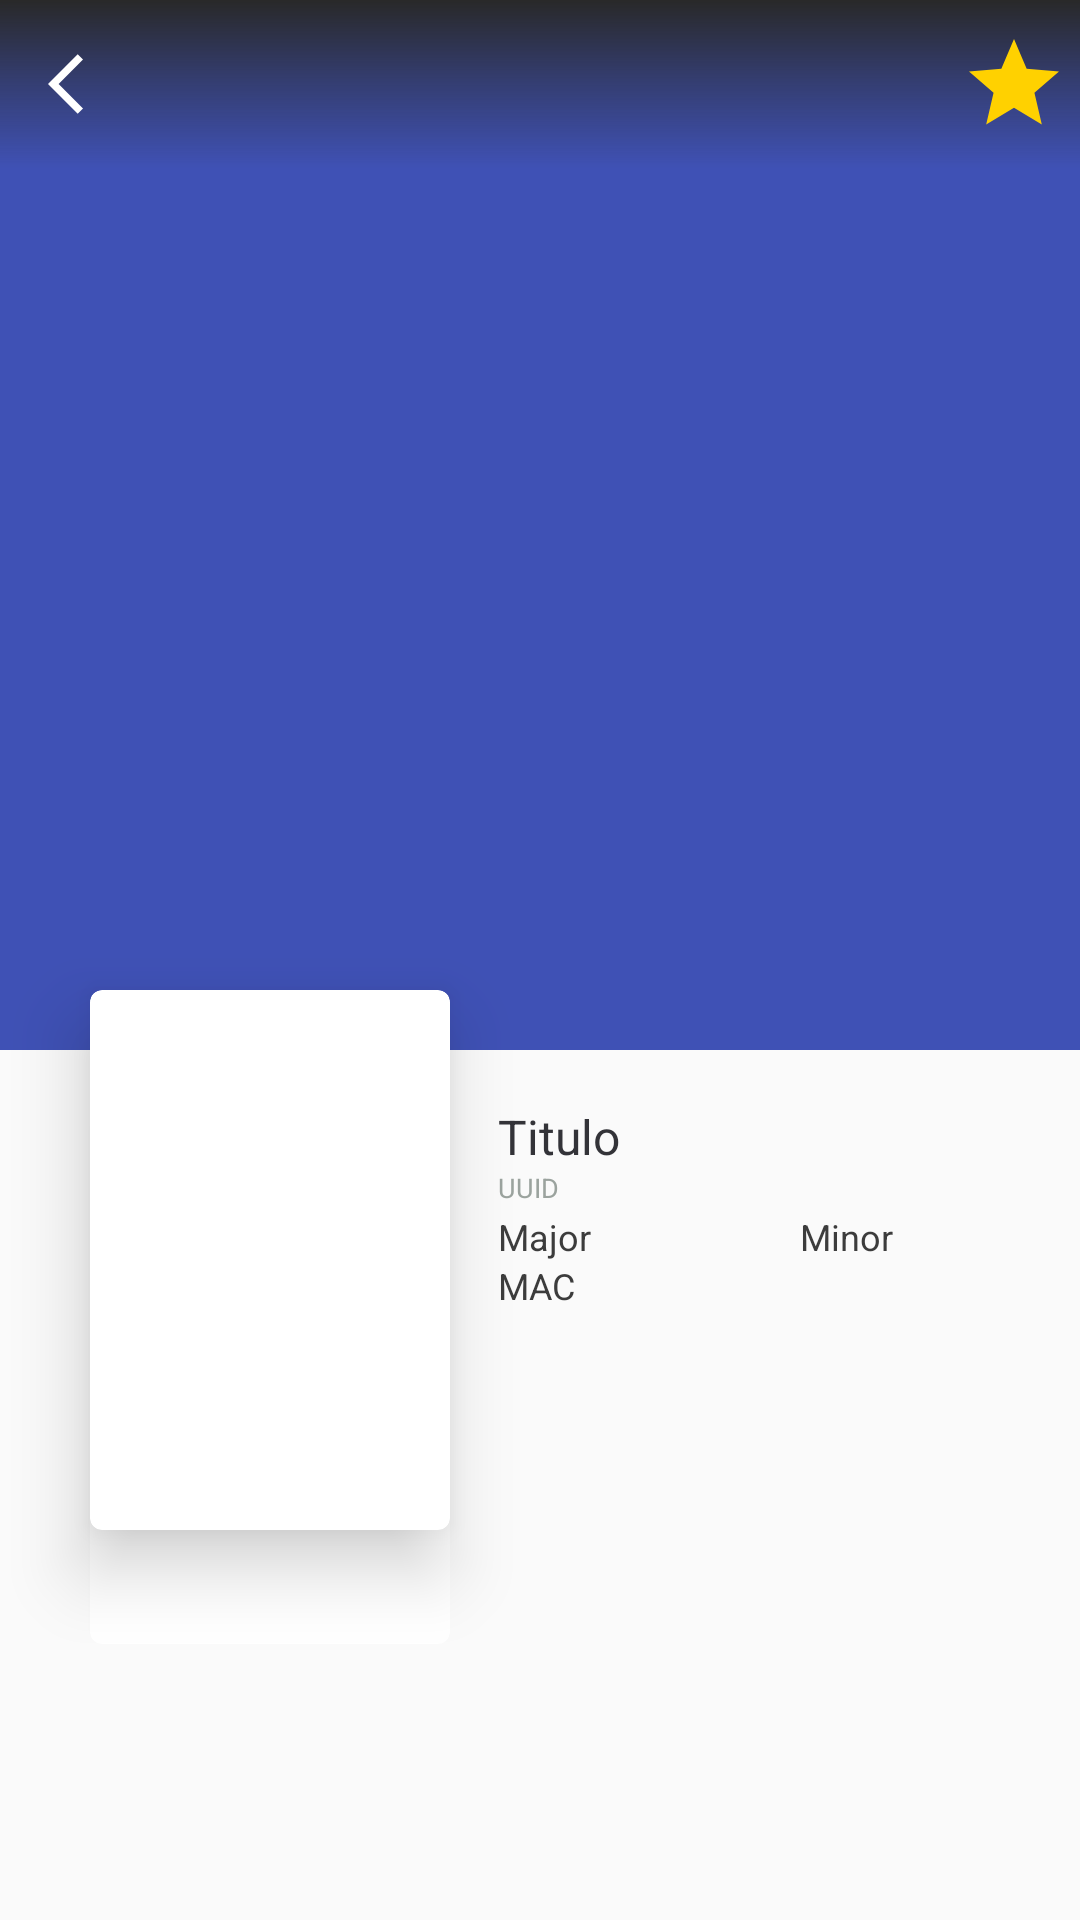

Screen size 1080 × 1920. Icon name, then its center in pixels as (x,y):
star: (1014,84)
